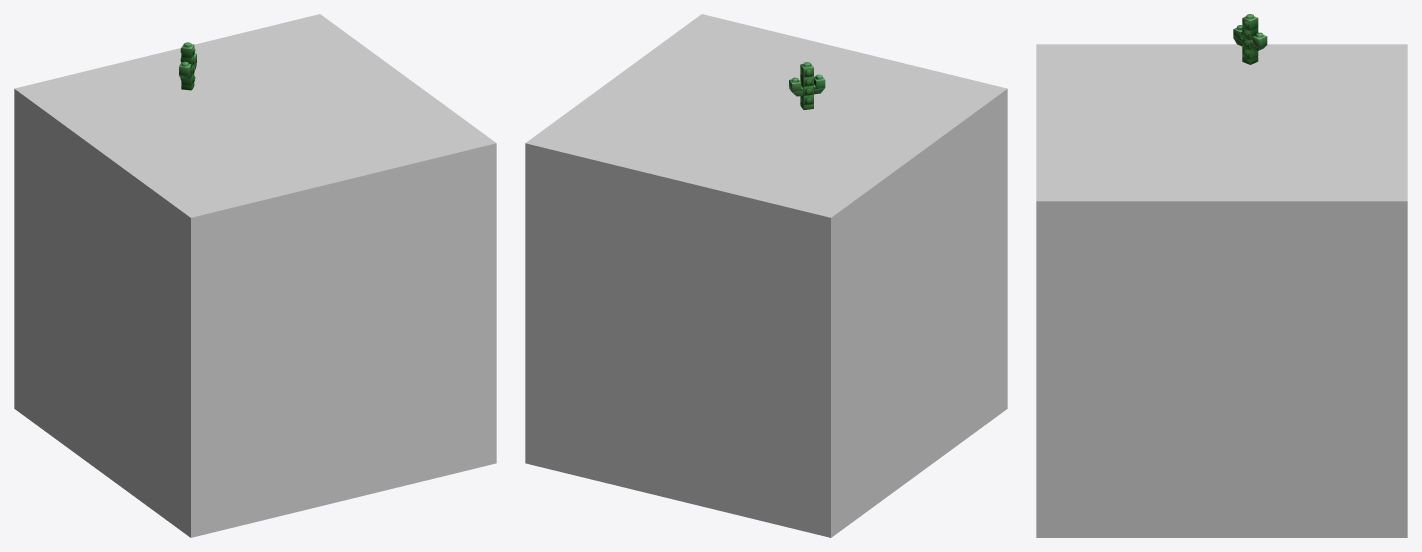
Rendered from legoBlock2x2.glb.
3 renders of one model, left to right at view 1: azimuth 30°, elevation 25°; view 2: azimuth 150°, elevation 25°; view 3: azimuth 270°, elevation 25°, orthographic. The views are drawn at different scales.
Parts seen in each view (by area): view 1: Cube, cactus_2; view 2: Cube, cactus_2; view 3: Cube, cactus_2.
Boxes of the visible parts, x1,y1,x2,y2 form: Cube: (14,14,496,537); cactus_2: (179,42,196,90); Cube: (525,14,1007,537); cactus_2: (789,62,825,109); Cube: (1036,44,1407,537); cactus_2: (1233,14,1267,64).
Size of the model in its own units: 2 by 2.47 by 2.
Materials: 33 (16 with a texture image).
